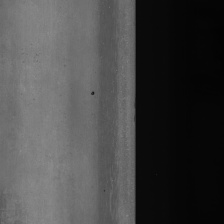inclusion: (87, 87, 96, 98)
